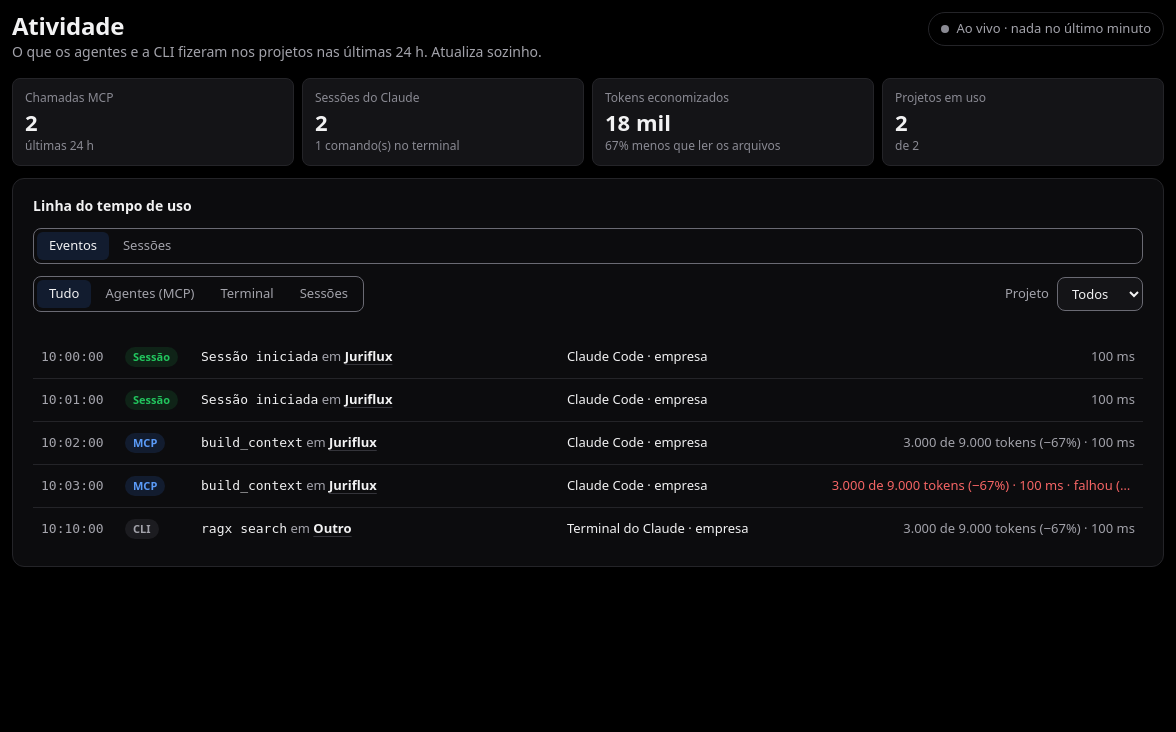
Test case: Atividade: visão Sessões › o padrão é Eventos e alternar mostra uma linha por sessão com cabeçalho e resumo em texto
Expected: the list named "Eventos, do mais novo" is shown, [33, 336, 1143, 550]
Step 1. Click the 1st radio button labelled "Sessões" → (147, 246), box [111, 232, 183, 260]
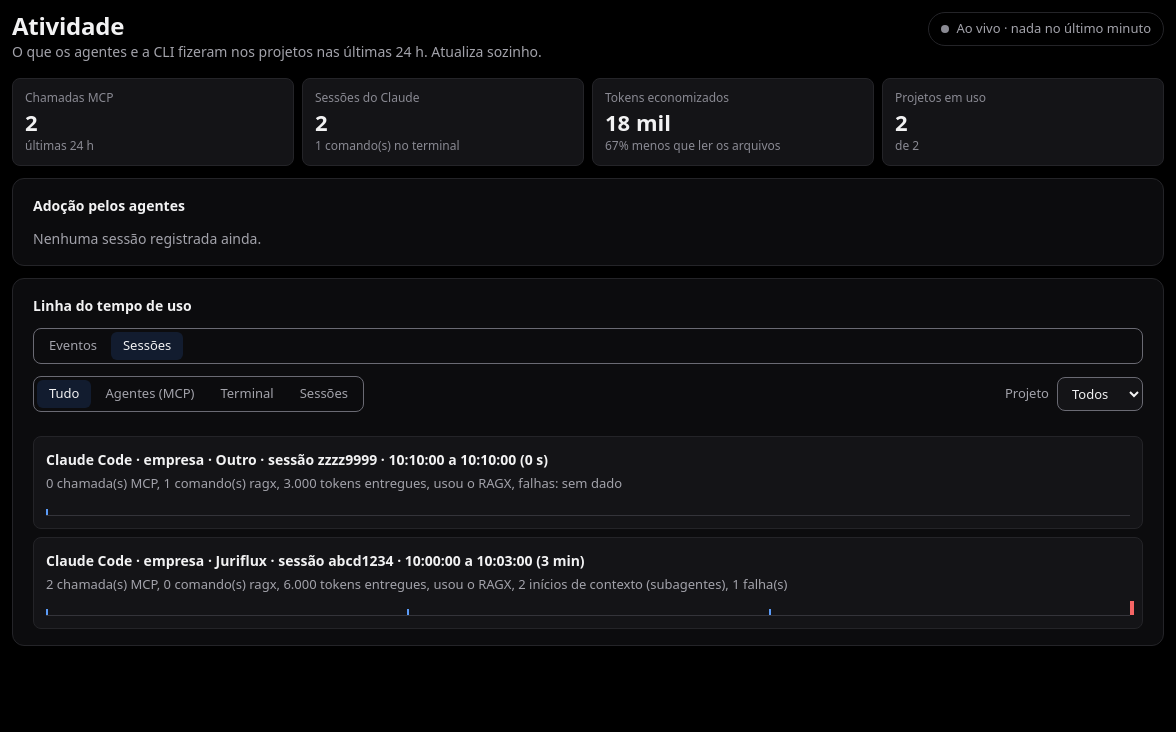
Now the number of buttons is 2, box [34, 437, 1142, 528]; [34, 538, 1142, 628]
Now the text "Claude Code · empresa · Juriflux · sessão abcd1234 · " is shown, box [46, 551, 585, 570]
